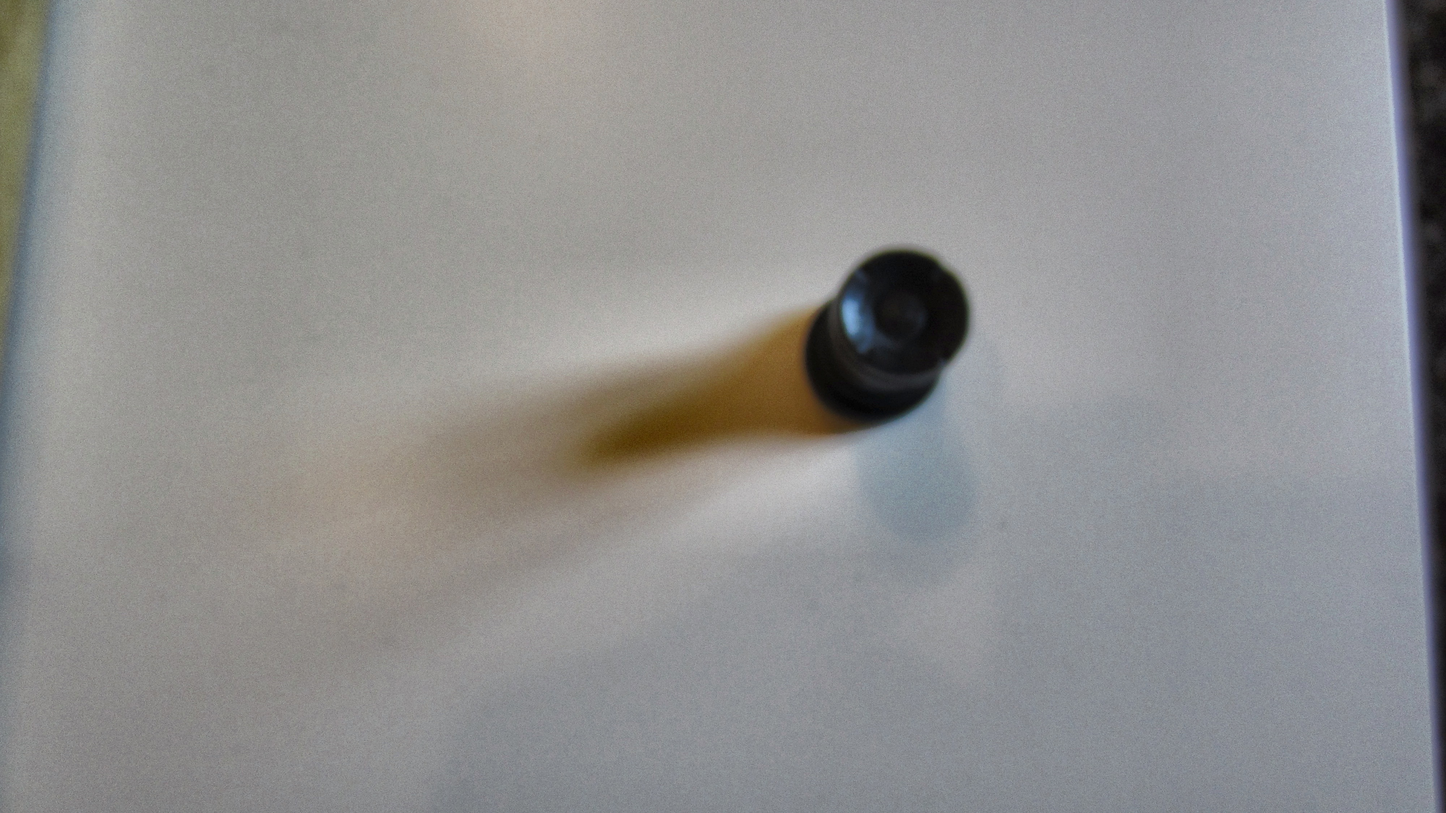black-rook: (798, 245, 971, 429)
